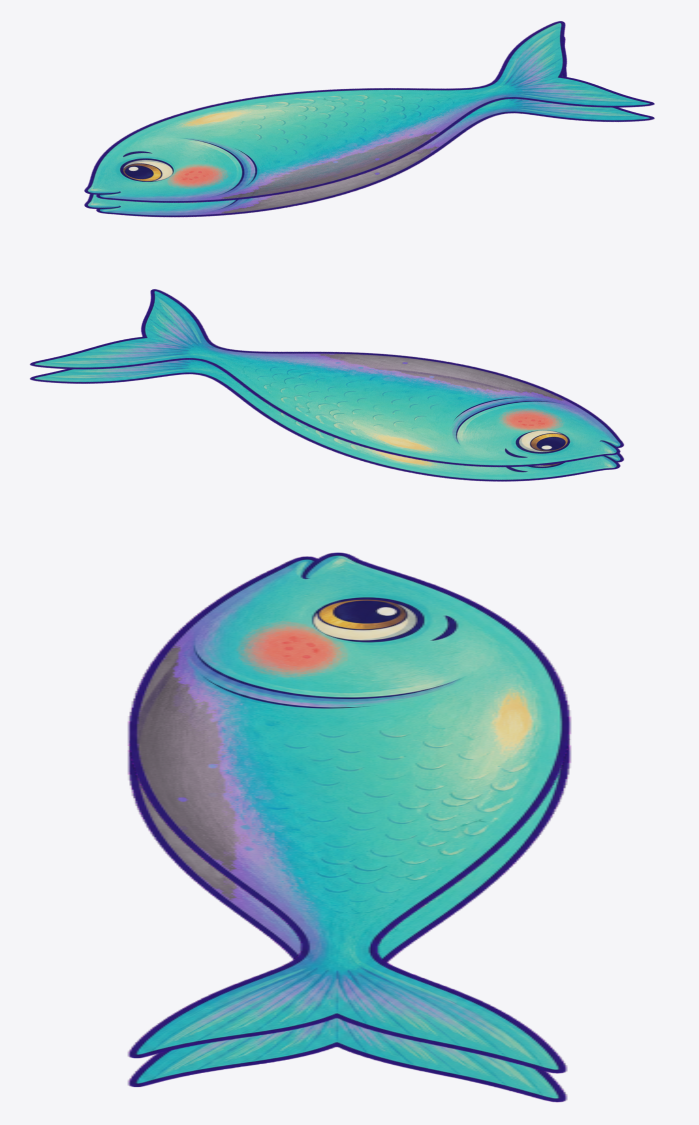
Rendered from fish_body.glb.
The picture shows the model from 3 angles, top to bottom: view 1: azimuth 30°, elevation 25°; view 2: azimuth 150°, elevation 25°; view 3: azimuth 270°, elevation 25°; orthographic projection. The views are drawn at different scales.
Parts seen in each view (by area): view 1: fish_body; view 2: fish_body; view 3: fish_body.
Boxes of the visible parts, <box> form: fish_body: <box>84,21,654,217</box>; fish_body: <box>30,289,623,481</box>; fish_body: <box>128,552,570,1102</box>.
Bounding box in the file's own units: 2 × 0.05 × 0.7559.
1 material, 1 textured.
